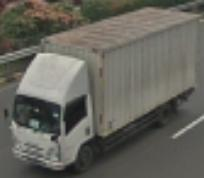truck: (1, 51, 105, 177)
